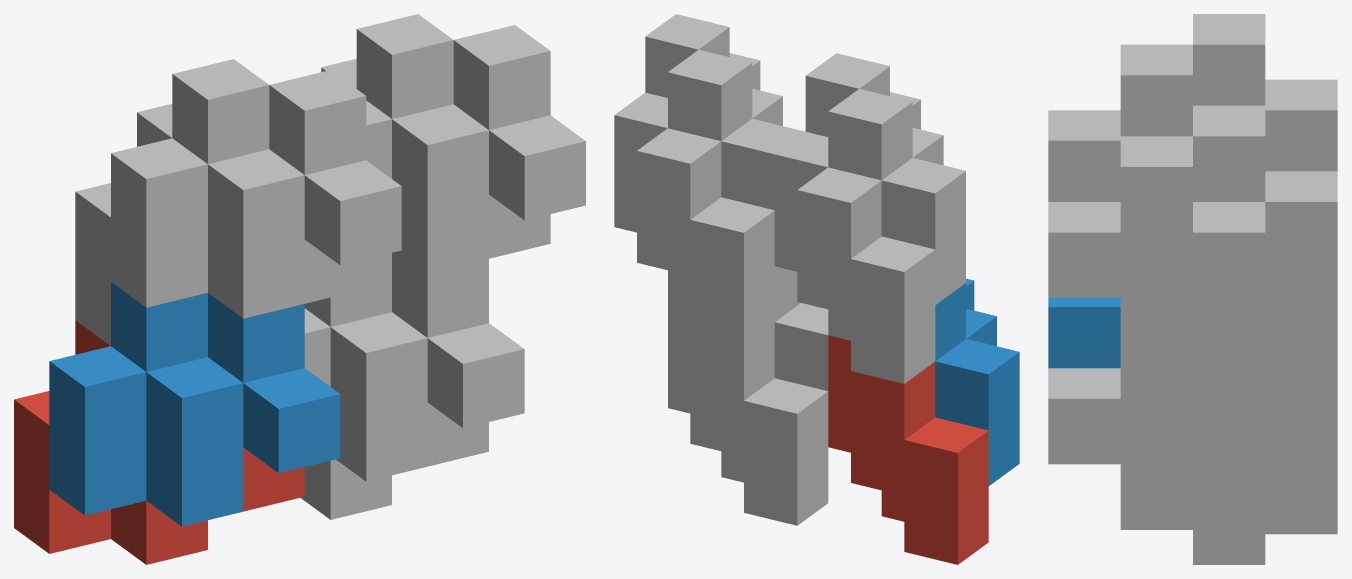
The model's file is tiling.obj.
3 views of the same model, side by side, from view 1: azimuth 30°, elevation 25°; view 2: azimuth 150°, elevation 25°; view 3: azimuth 270°, elevation 25° (orthographic). The views are drawn at different scales.
Visible parts, largest first — view 1: copy_1_domain_4, copy_1_domain_2, copy_1_domain_8, copy_1_domain_6, copy_1_domain_1, copy_1_domain_3, copy_1_domain_5, copy_1_domain_7; view 2: copy_1_domain_3, copy_1_domain_7, copy_1_domain_1, copy_1_domain_5, copy_1_domain_4, copy_1_domain_8, copy_1_domain_2, copy_1_domain_6; view 3: copy_1_domain_7, copy_1_domain_5, copy_1_domain_8, copy_1_domain_4, copy_1_domain_6, copy_1_domain_3, copy_1_domain_2.
Boxes of the visible parts, x1,y1,x2,y2 form: copy_1_domain_4: [111, 59, 401, 318]; copy_1_domain_2: [49, 282, 340, 526]; copy_1_domain_8: [356, 14, 585, 273]; copy_1_domain_6: [304, 251, 524, 481]; copy_1_domain_1: [14, 320, 304, 564]; copy_1_domain_3: [75, 104, 366, 345]; copy_1_domain_5: [300, 403, 488, 519]; copy_1_domain_7: [321, 58, 550, 258]; copy_1_domain_3: [774, 132, 935, 383]; copy_1_domain_7: [614, 92, 774, 344]; copy_1_domain_1: [828, 335, 988, 564]; copy_1_domain_5: [668, 296, 828, 525]; copy_1_domain_4: [805, 53, 965, 304]; copy_1_domain_8: [645, 14, 805, 209]; copy_1_domain_2: [935, 278, 1019, 485]; copy_1_domain_6: [774, 266, 828, 390]; copy_1_domain_7: [1120, 171, 1337, 398]; copy_1_domain_5: [1120, 368, 1337, 564]; copy_1_domain_8: [1048, 105, 1265, 297]; copy_1_domain_4: [1048, 14, 1265, 201]; copy_1_domain_6: [1048, 363, 1192, 464]; copy_1_domain_3: [1265, 79, 1337, 171]; copy_1_domain_2: [1048, 298, 1120, 368].
Bounding box in the file's own units: 7 × 7 × 4.
